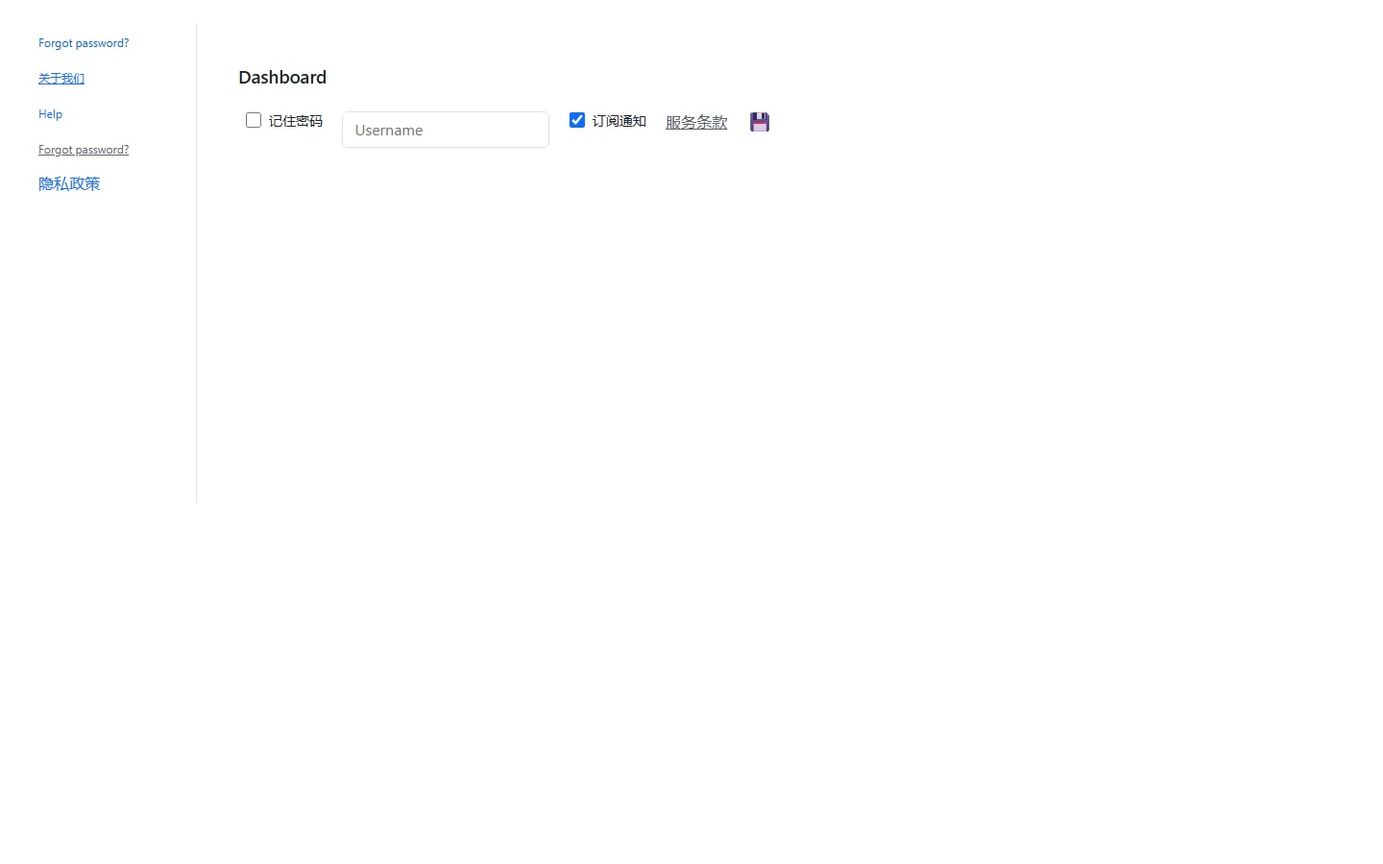checkbox: (569, 113, 585, 128), (246, 113, 261, 128)
icon: (269, 111, 323, 129), (592, 111, 646, 129), (747, 111, 773, 130)
input: (342, 111, 550, 148)
link: (38, 35, 129, 50), (38, 141, 129, 156), (38, 173, 100, 193), (666, 111, 727, 131), (38, 70, 85, 85), (38, 106, 62, 121)
radio: (246, 111, 323, 129), (569, 111, 646, 129)
